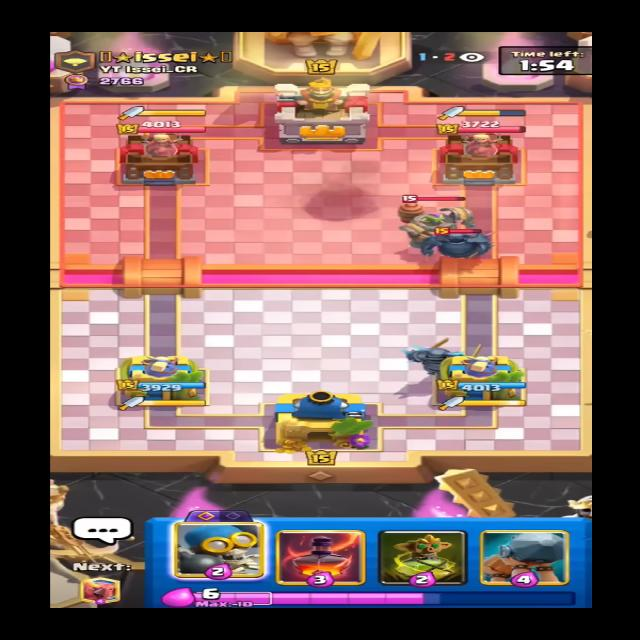goblin-machine: (386, 183, 484, 245)
pekka: (414, 220, 502, 262)
